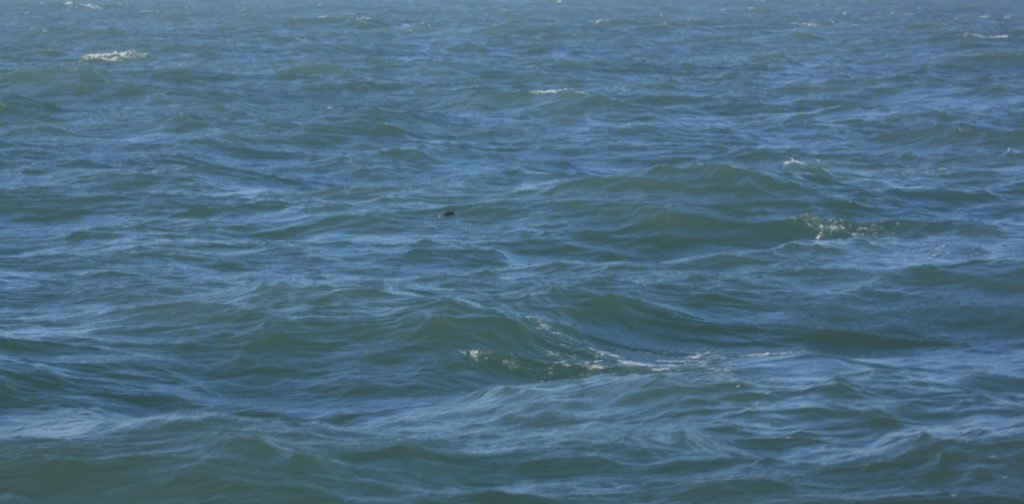plastic: (418, 178, 464, 240)
